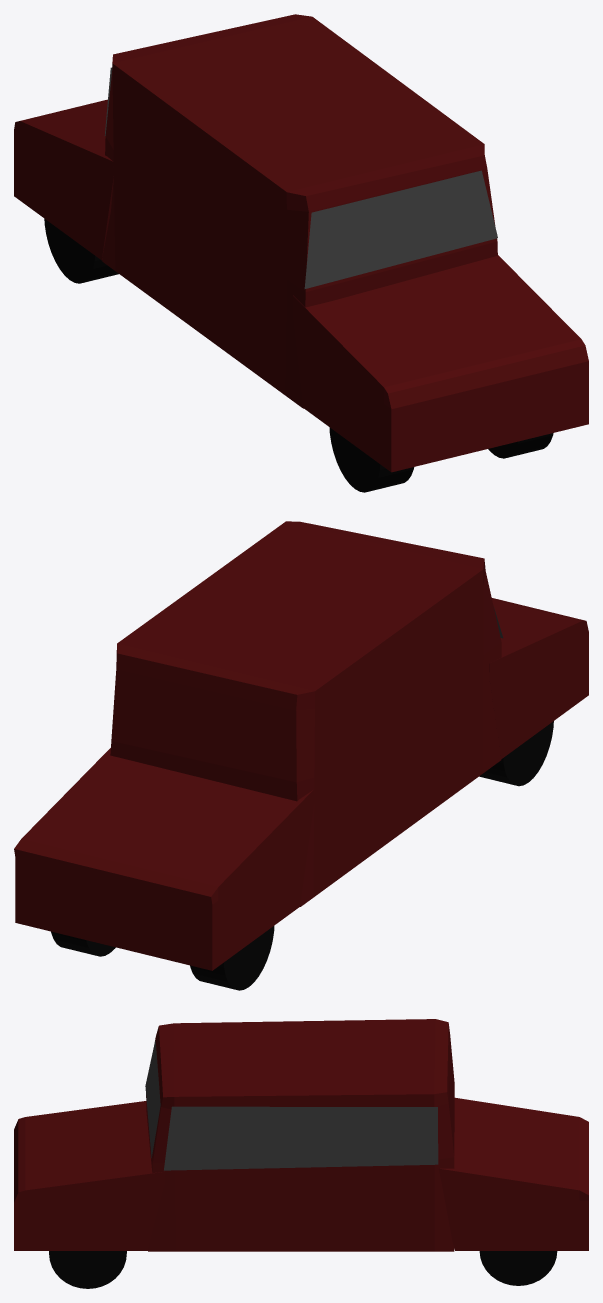
Rendered from car.fbx.
The picture shows the model from 3 angles, top to bottom: view 1: azimuth 30°, elevation 25°; view 2: azimuth 150°, elevation 25°; view 3: azimuth 270°, elevation 25°; orthographic projection. The views are drawn at different scales.
Visible parts, largest first — view 1: Cube, Cube.002, Plane.002, Cube.001, Cylinder.002, Cylinder.001, Cylinder.003; view 2: Cube, Cube.001, Cube.002, Cylinder.001, Cylinder.002, Cylinder; view 3: Cube, Cube.001, Cube.002, Plane, Cylinder.003, Cylinder, Plane.002.
Part boxes in pixels (x1,y1,x2,y2): Cube: (102,14,497,408); Cube.002: (293,255,588,472); Plane.002: (304,170,497,288); Cube.001: (14,99,113,260); Cylinder.002: (329,427,414,492); Cylinder.001: (44,218,118,283); Cylinder.003: (488,433,553,458); Cube: (110,521,501,906); Cube.001: (14,748,314,970); Cube.002: (489,598,588,758); Cylinder.001: (190,926,274,990); Cylinder.002: (479,721,553,786); Cylinder: (51,931,115,956); Cube: (146,1019,454,1251); Cube.001: (438,1097,588,1250); Cube.002: (14,1101,164,1250); Plane: (164,1106,438,1170); Cylinder.003: (49,1251,126,1288); Cylinder: (479,1251,557,1285); Plane.002: (145,1039,160,1157).
Size of the model in its own units: 205 by 254 by 662.
